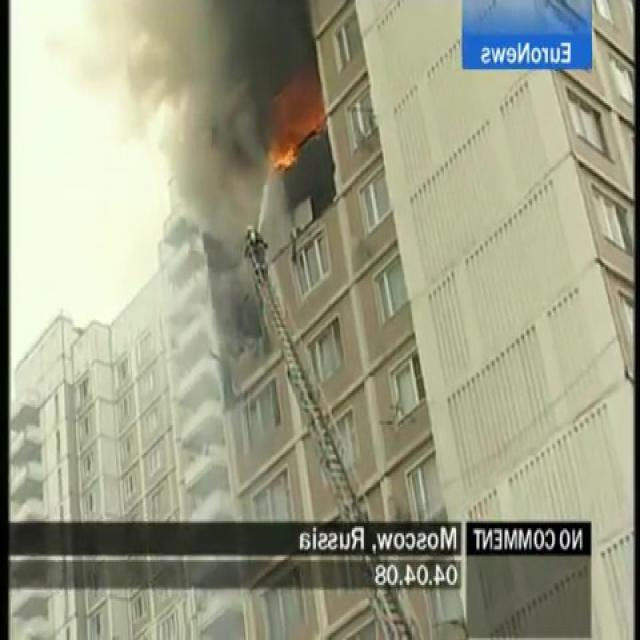fire: (263, 135, 301, 178)
